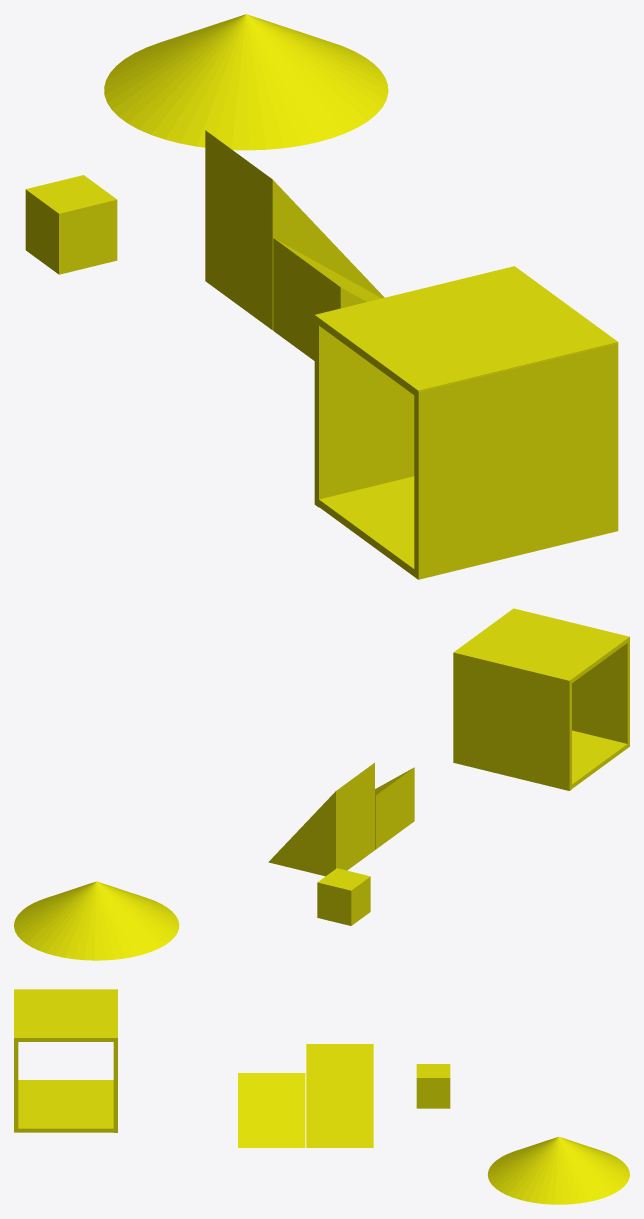
The model's file is map.glb.
3 renders of one model, top to bottom at view 1: azimuth 30°, elevation 25°; view 2: azimuth 150°, elevation 25°; view 3: azimuth 270°, elevation 25°, orthographic. The views are drawn at different scales.
Visible parts, largest first — view 1: Cube.004, Cone, Cube.006, Cube.001, Cube.005, Cube, Cube.002, Cube.003; view 2: Cube.005, Cone, Cube.006, Cube.001, Cube.004, Cube, Cube.003, Cube.002; view 3: Cube.001, Cone, Cube.006, Cube.003, Cube.002, Cube, Cube.004, Cube.005.
Boxes of the visible parts, x1,y1,x2,y2 form: Cube.004: [414, 343, 618, 579]; Cone: [104, 14, 388, 150]; Cube.006: [314, 266, 618, 394]; Cube.001: [205, 130, 384, 330]; Cube.005: [314, 317, 414, 507]; Cube: [25, 175, 117, 274]; Cube.002: [273, 238, 381, 360]; Cube.003: [314, 476, 418, 579]; Cube.005: [453, 657, 571, 790]; Cone: [14, 881, 179, 960]; Cube.006: [453, 608, 629, 685]; Cube.001: [268, 762, 374, 876]; Cube.004: [572, 641, 629, 743]; Cube: [317, 868, 370, 925]; Cube.003: [453, 730, 629, 790]; Cube.002: [375, 767, 414, 849]; Cube.001: [306, 1044, 373, 1147]; Cone: [487, 1136, 629, 1204]; Cube.006: [14, 989, 117, 1041]; Cube.003: [14, 1080, 117, 1132]; Cube.002: [238, 1073, 305, 1147]; Cube: [416, 1064, 450, 1108]; Cube.004: [14, 990, 18, 1131]; Cube.005: [113, 1039, 117, 1132].
Size of what is drawn, in the model's own units: 17.01 by 6.23 by 36.64.
